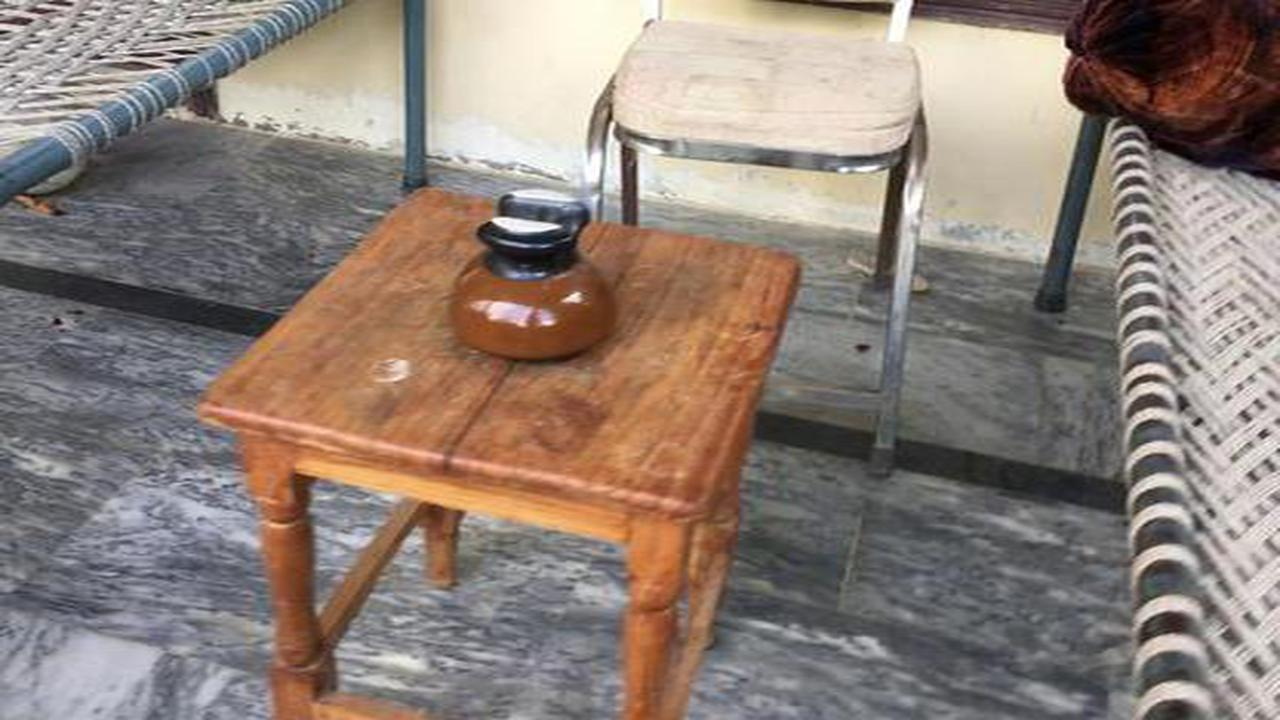insulator_pin: (428, 175, 647, 373)
